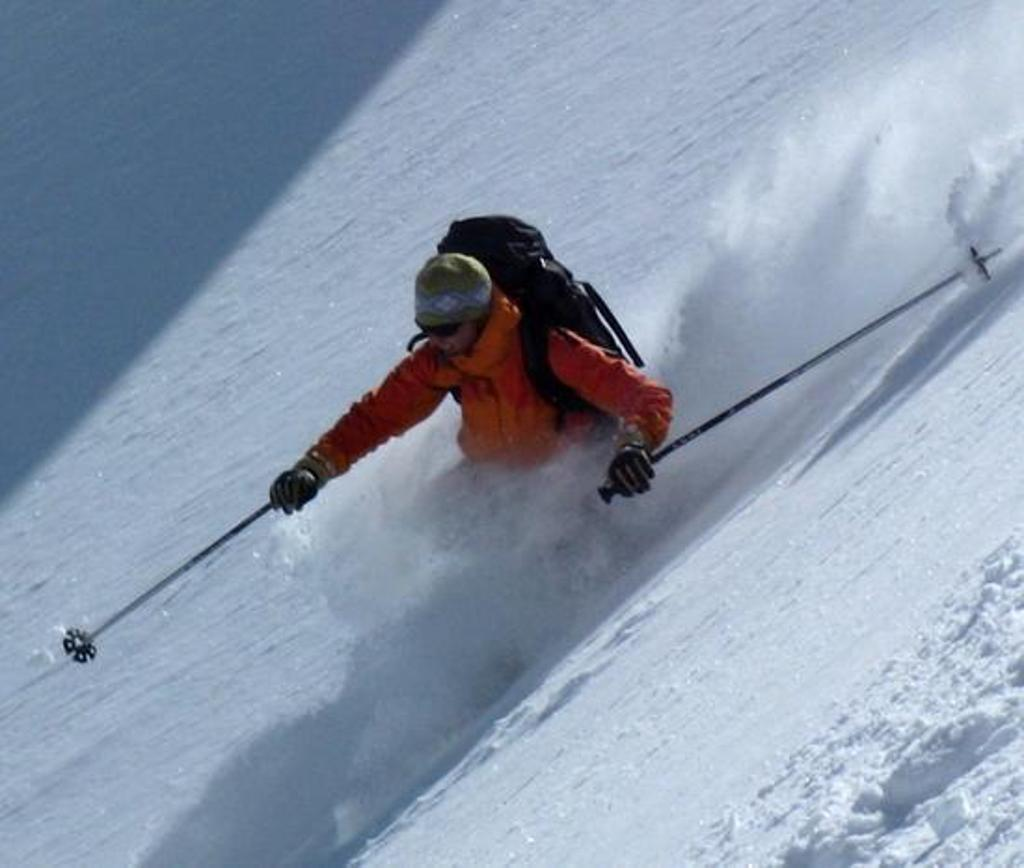face: (417, 297, 479, 361)
